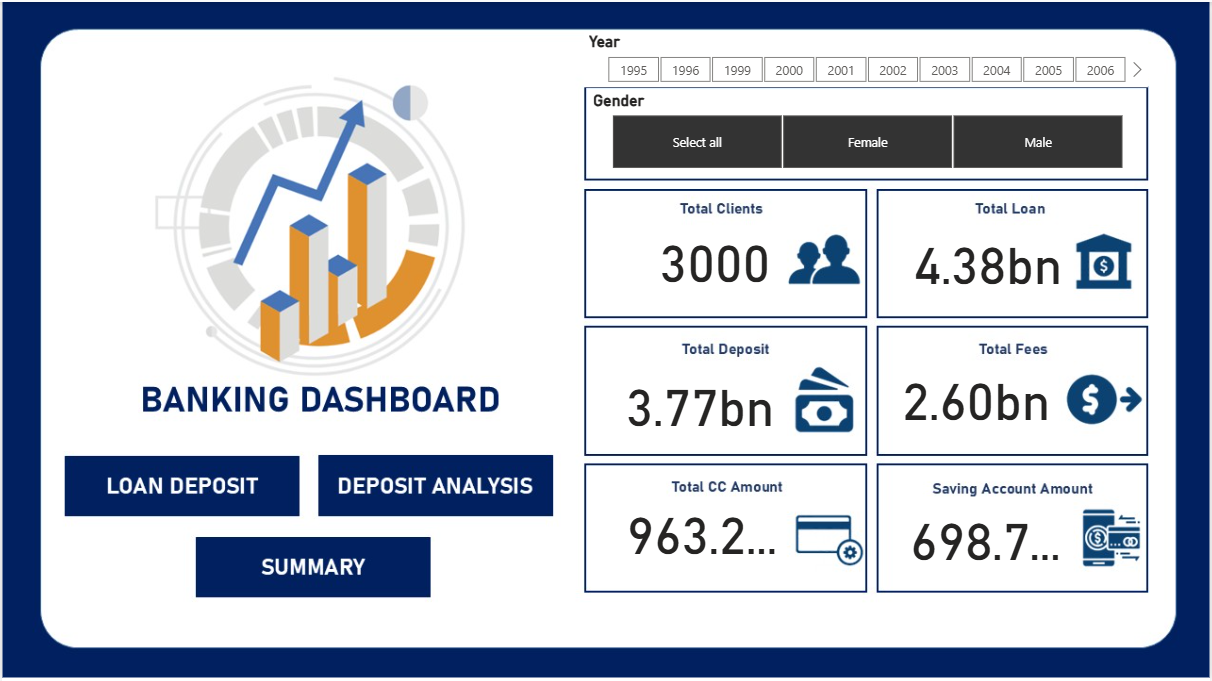

What the dashboard file says about the page in this screenshot:
{"tool":"powerbi","page":{"name":"Home","canvas":[1280,720],"ordinal":0},"visuals":[{"type":"card","fields":{"Values":["CountNonNull(banking_case customer.Name)"]},"box":[664.9,237,181.3,66.8],"z":0},{"type":"slicer","title":"Gender","fields":{"Values":["banking_case customer.GenderId"]},"box":[621.9,93.8,590.1,89.1],"z":1000},{"type":"card","fields":{"Values":["banking_case customer.Total Loan"]},"box":[954.3,238.1,181.4,68],"z":2000},{"type":"card","fields":{"Values":["banking_case customer.Total Deposit"]},"box":[648.2,389.3,181.4,68],"z":3000},{"type":"card","fields":{"Values":["Sum(banking_case customer.Business Lending)"]},"box":[941.1,383.6,181.4,68],"z":4000},{"type":"card","fields":{"Values":["Sum(banking_case customer.Checking Accounts)"]},"box":[650.1,525.4,181.4,68],"z":5000},{"type":"card","fields":{"Values":["Sum(banking_case customer.Saving Accounts)"]},"box":[951.2,531.3,181.3,68.4],"z":6000},{"type":"actionButton","box":[66.8,483.5,248.1,60.4],"z":7000},{"type":"actionButton","box":[205.2,569.4,248.1,60.4],"z":8000},{"type":"actionButton","box":[334,482,248.1,60.4],"z":9000},{"type":"slicer","title":"Year","fields":{"Values":["banking_case customer.Year of Joining"]},"box":[617.2,31.8,598.1,58.9],"z":10000}]}

Visuals, with their boxes in screenshot pixels (x1, y1, x2, y2), scaled from the page's 1280x720 canvas onto the 1212x681 screenshot:
card - CountNonNull(banking_case customer.Name): 630 224 801 287
"Gender" slicer: 589 89 1148 173
card - banking_case customer.Total Loan: 904 225 1075 290
card - banking_case customer.Total Deposit: 614 368 786 433
card - Sum(banking_case customer.Business Lending): 891 363 1063 427
card - Sum(banking_case customer.Checking Accounts): 616 497 787 561
card - Sum(banking_case customer.Saving Accounts): 901 503 1072 567
actionButton: 63 457 298 514
actionButton: 194 539 429 596
actionButton: 316 456 551 513
"Year" slicer: 584 30 1151 86
